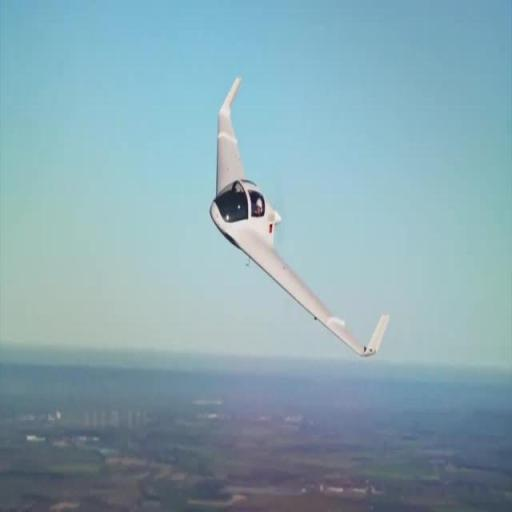uav: (210, 68, 394, 364)
